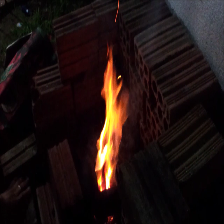fire_h: (95, 46, 124, 192)
fire_l: (115, 1, 120, 21), (107, 216, 113, 221)
